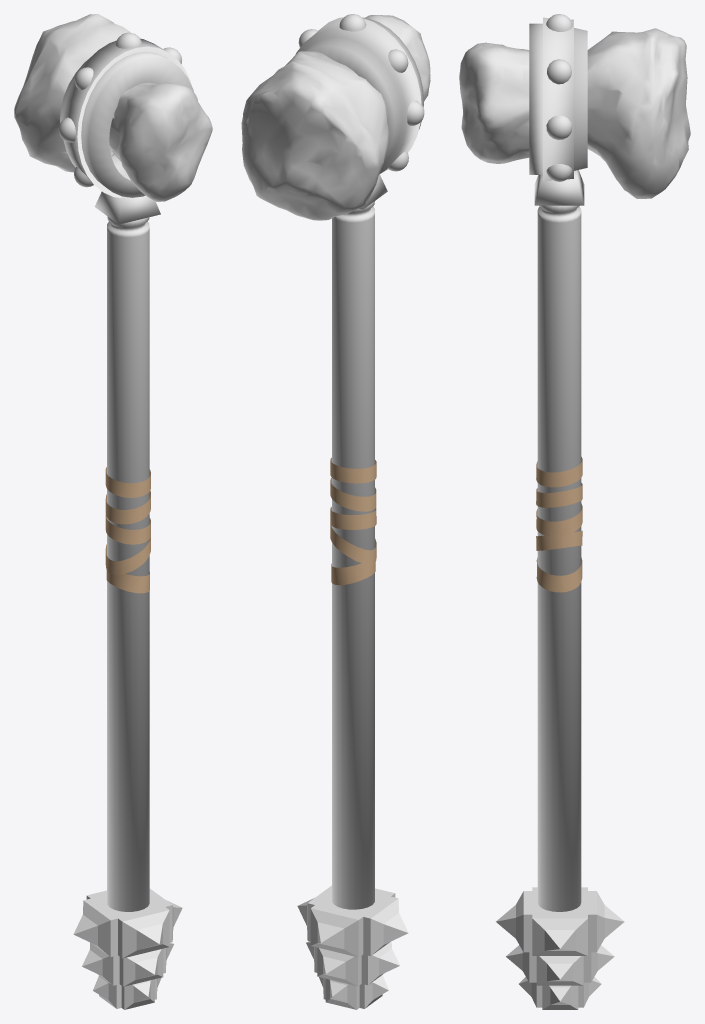
File: RockStaff.fbx
The picture shows the model from 3 angles, left to right: view 1: azimuth 30°, elevation 25°; view 2: azimuth 150°, elevation 25°; view 3: azimuth 270°, elevation 25°; orthographic projection. The views are drawn at different scales.
Parts seen in each view (by area): view 1: StoneStaff; view 2: StoneStaff; view 3: StoneStaff.
Boxes of the visible parts, x1,y1,x2,y2 form: StoneStaff: (14, 14, 212, 1009); StoneStaff: (241, 14, 430, 1009); StoneStaff: (459, 14, 690, 1009).
Size of the model in its own units: 22.84 by 154 by 32.88.
